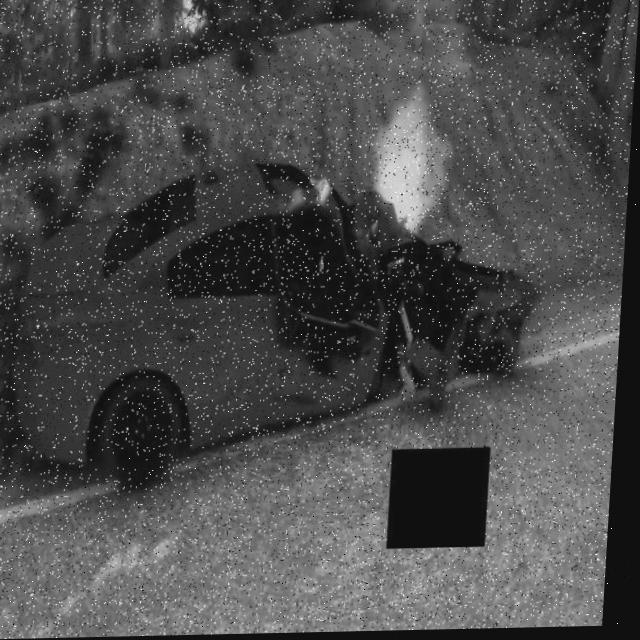single accident: (0, 157, 517, 488)
